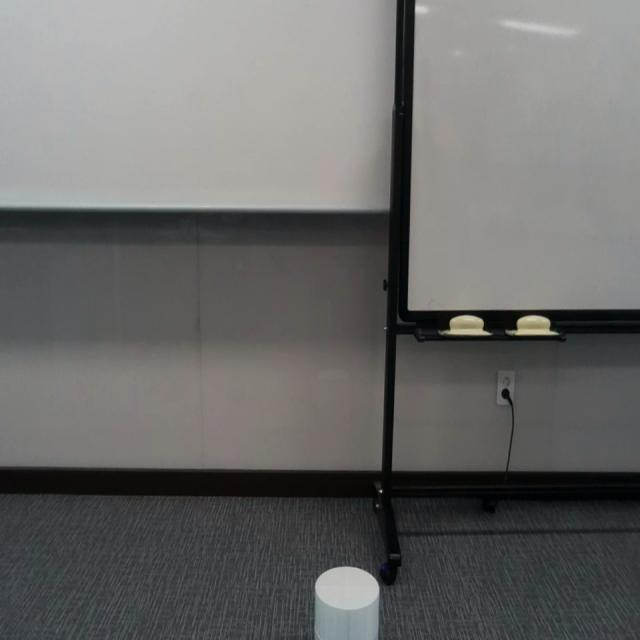cylinder: (314, 565, 380, 639)
